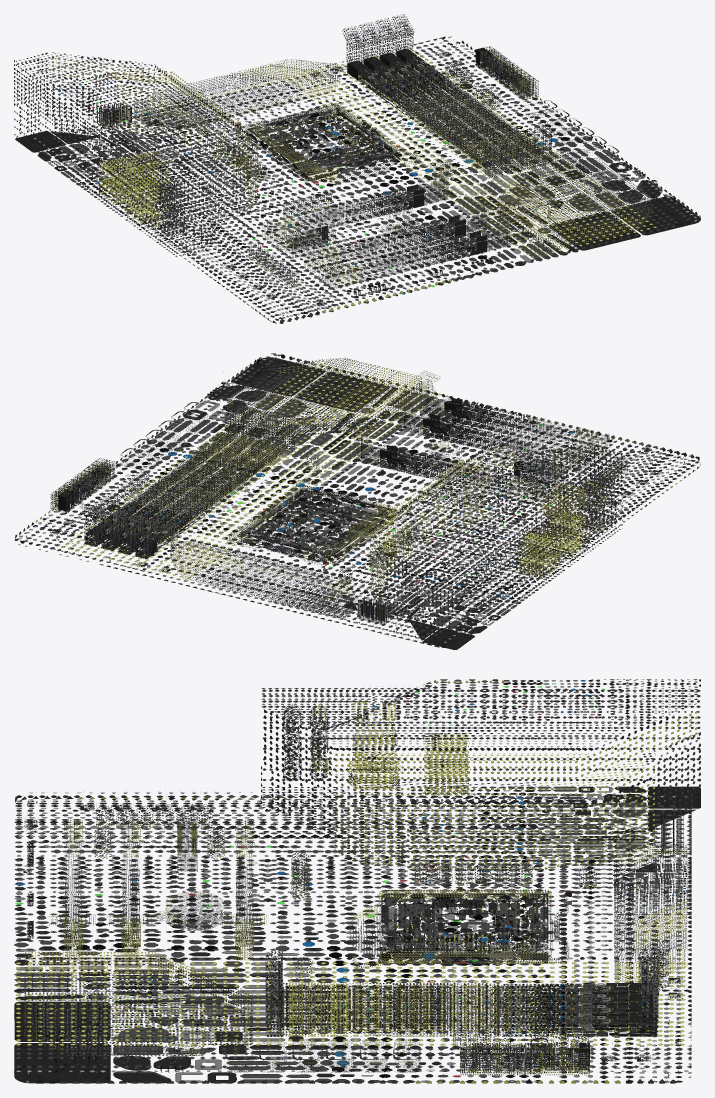
The model's file is MICRO_ATX.fbx.
The picture shows the model from 3 angles, top to bottom: view 1: azimuth 30°, elevation 25°; view 2: azimuth 150°, elevation 25°; view 3: azimuth 270°, elevation 25°; orthographic projection. The views are drawn at different scales.
Parts seen in each view (by area): view 1: MICRO_ATX_BOARD; view 2: MICRO_ATX_BOARD; view 3: MICRO_ATX_BOARD.
Part boxes in pixels (x1,y1,x2,y2): MICRO_ATX_BOARD: (14,14,700,323); MICRO_ATX_BOARD: (15,353,700,649); MICRO_ATX_BOARD: (14,679,700,1083).
Bounding box in the file's own units: 397 × 71.85 × 395.
